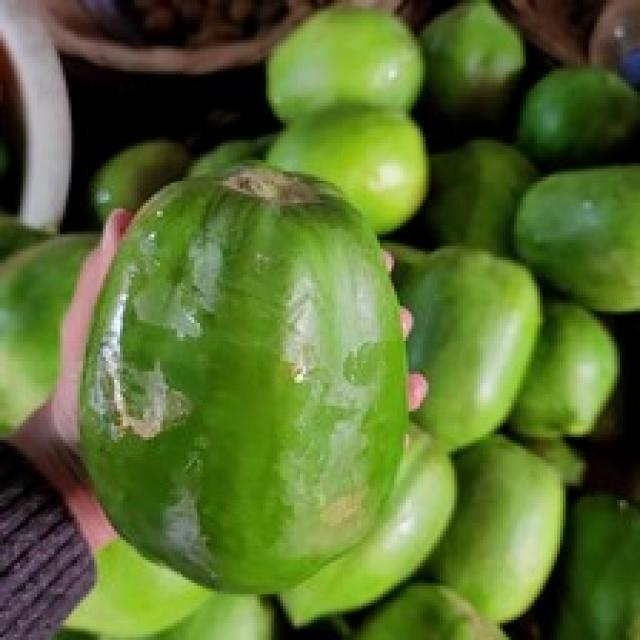Pepaya unrippen: (76, 154, 406, 593)
